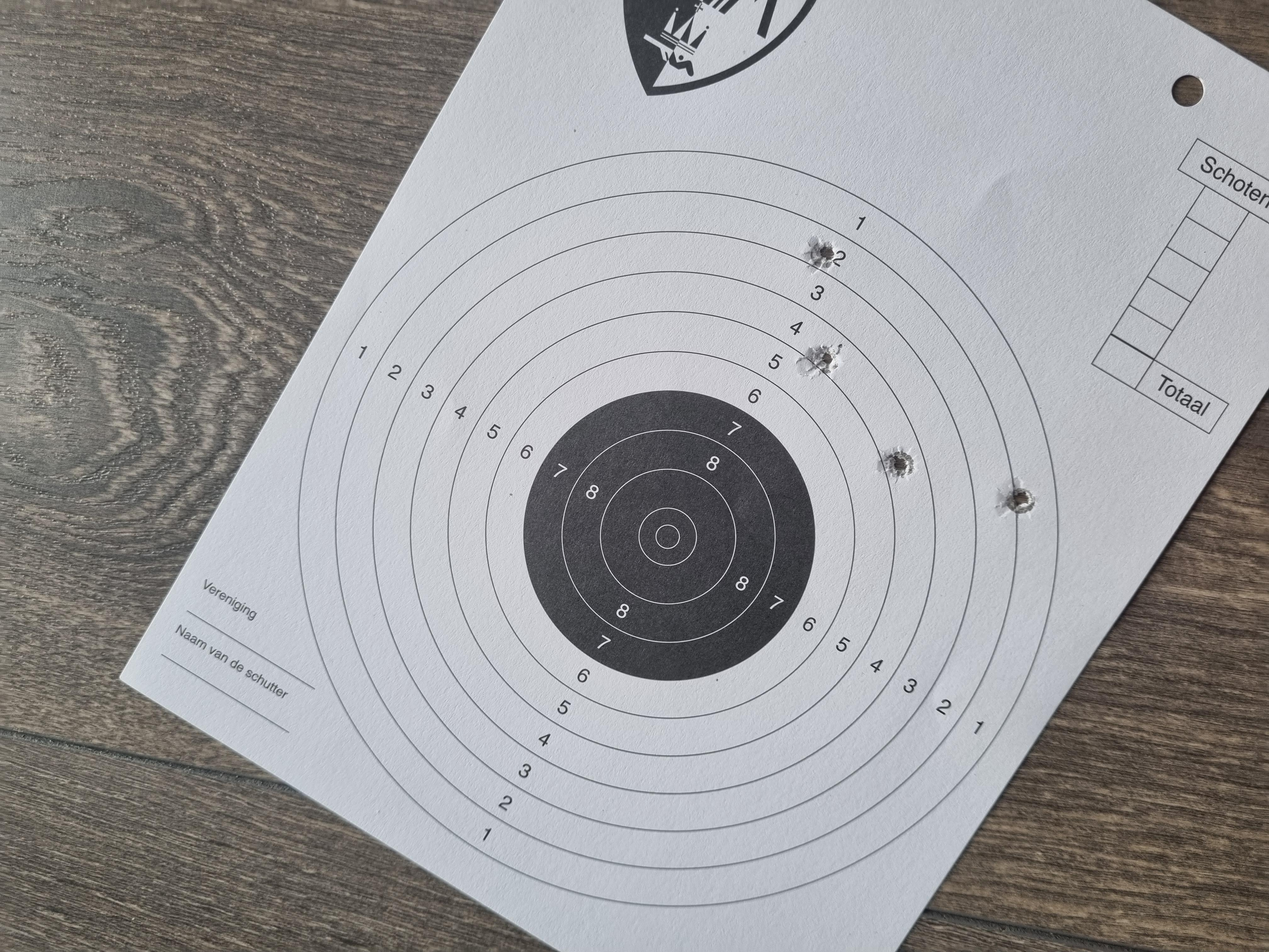hole: (764, 597, 811, 633), (624, 659, 676, 686), (906, 602, 950, 627), (582, 748, 619, 777)
